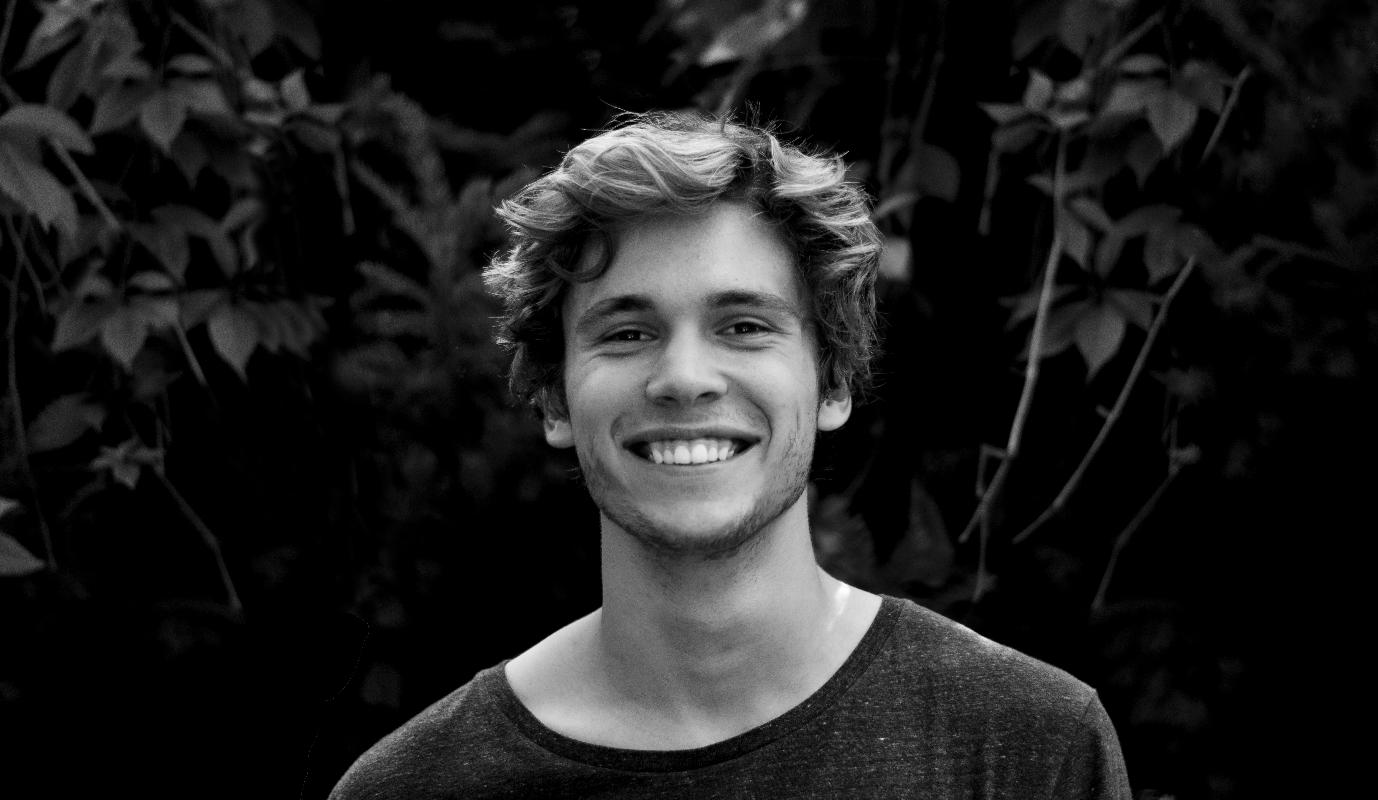Person: (307, 118, 1140, 800)
